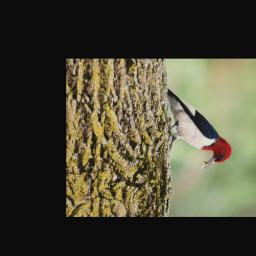Woodpecker: (167, 89, 233, 168)
